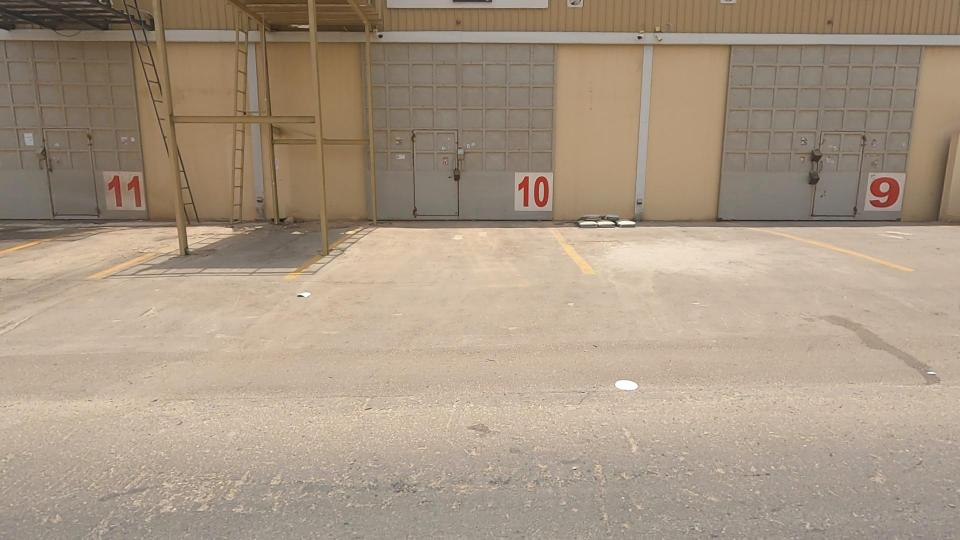GARBAGE: (542, 186, 660, 247), (275, 268, 331, 321)
